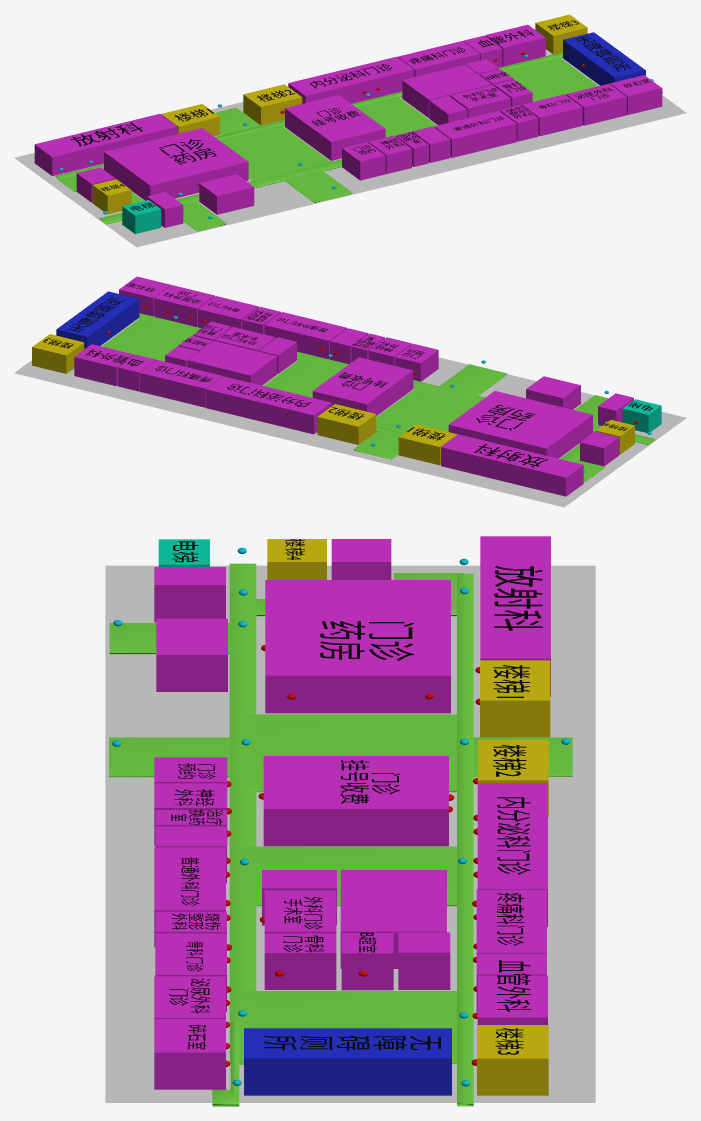
The picture shows the model from 3 angles, top to bottom: view 1: azimuth 30°, elevation 25°; view 2: azimuth 150°, elevation 25°; view 3: azimuth 270°, elevation 25°; orthographic projection. The views are drawn at different scales.
Visible parts, largest first — view 1: 平面, 立方体.004, 立方体, 立方体.005, 立方体.031, 立方体.001, 立方体.023, 立方体.018, 立方体.035, 立方体.012, 立方体.034, 立方体.024 (+29 smaller); view 2: 平面, 立方体.004, 立方体, 立方体.001, 立方体.005, 立方体.031, 立方体.023, 立方体.012, 立方体.002, 立方体.035, 立方体.018, 立方体.027 (+29 smaller); view 3: 平面, 立方体.004, 立方体.005, 立方体.023, 立方体.032, 立方体.031, 立方体.033, 立方体.035, 立方体, 立方体.001, 立方体.012, 立方体.034 (+33 smaller).
Part boxes in pixels (x1,y1,x2,y2): 平面: (14, 49, 686, 247); 立方体.004: (104, 128, 248, 200); 立方体: (34, 114, 177, 175); 立方体.005: (285, 95, 385, 160); 立方体.031: (219, 125, 330, 182); 立方体.001: (288, 56, 414, 103); 立方体.023: (563, 32, 645, 85); 立方体.018: (434, 110, 516, 157); 立方体.035: (503, 57, 598, 101); 立方体.012: (402, 65, 491, 117); 立方体.034: (355, 96, 436, 137); 立方体.024: (199, 174, 254, 214); 平面: (14, 316, 686, 507); 立方体.004: (448, 391, 592, 458); 立方体: (441, 434, 583, 496); 立方体.001: (205, 376, 331, 434); 立方体.005: (312, 357, 413, 415); 立方体.031: (376, 385, 478, 432); 立方体.023: (56, 291, 139, 349); 立方体.012: (187, 341, 276, 385); 立方体.002: (140, 360, 222, 407); 立方体.035: (102, 317, 197, 361); 立方体.018: (264, 312, 346, 359); 立方体.027: (317, 404, 376, 444); 平面: (105, 565, 595, 1102); 立方体.004: (265, 580, 450, 713); 立方体.005: (263, 756, 448, 846); 立方体.023: (244, 1028, 451, 1095); 立方体.032: (229, 563, 256, 1064); 立方体.031: (244, 714, 456, 792); 立方体.033: (457, 573, 473, 1106); 立方体.035: (242, 991, 456, 1063); 立方体: (480, 536, 550, 696); 立方体.001: (477, 783, 547, 926); 立方体.012: (340, 870, 446, 968); 立方体.034: (242, 846, 456, 906).
Bounding box in the file's own units: 20.5 × 0.7144 × 7.87.
